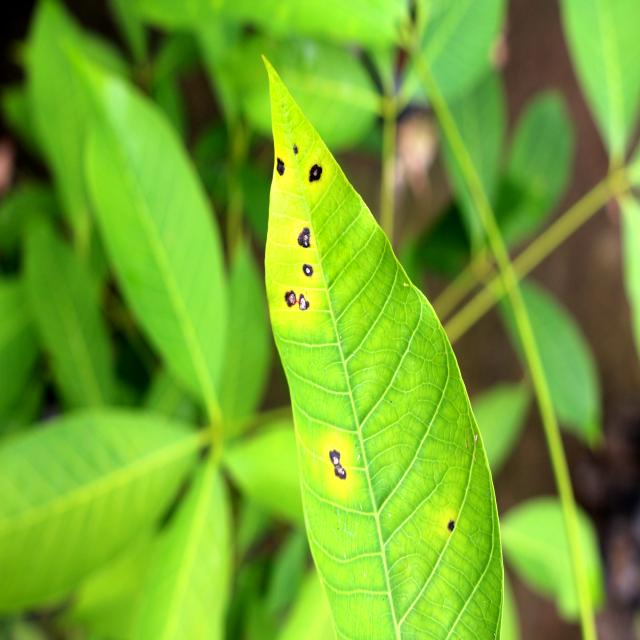Colletotrichum: (309, 164, 322, 183), (298, 227, 310, 247), (285, 291, 297, 307), (334, 465, 346, 480), (330, 450, 340, 466), (299, 294, 309, 310), (302, 264, 313, 276), (448, 520, 454, 531)
